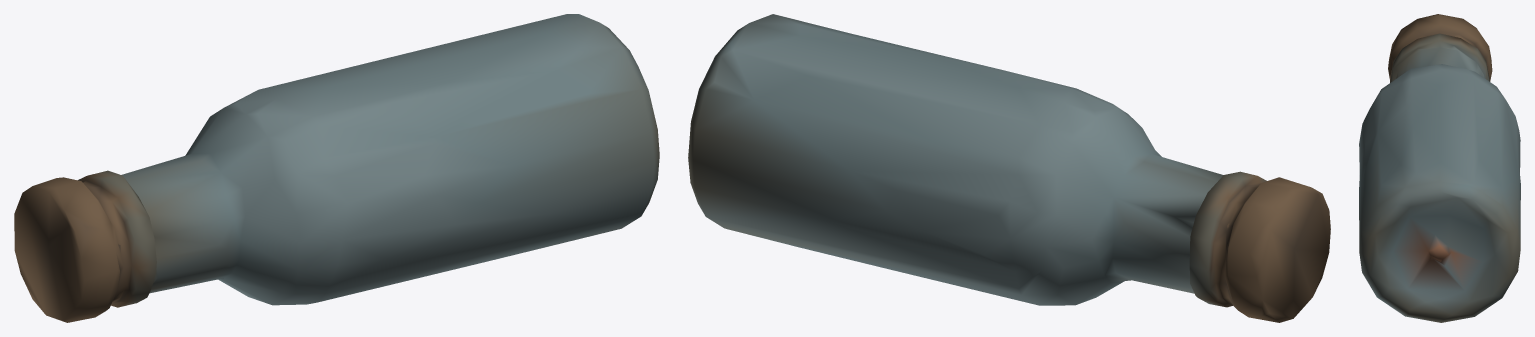
The model's file is gen3d-message-in-a-bottle-lod1.glb.
The picture shows the model from 3 angles, left to right: view 1: azimuth 30°, elevation 25°; view 2: azimuth 150°, elevation 25°; view 3: azimuth 270°, elevation 25°; orthographic projection. The views are drawn at different scales.
Visible parts, largest first — view 1: part_0; view 2: part_0; view 3: part_0.
Part boxes in pixels (box(x1,y1,x2,y2)): part_0: box(14, 14, 659, 322); part_0: box(688, 14, 1330, 322); part_0: box(1359, 14, 1520, 322).
Bounding box in the file's own units: 2.96 × 0.9975 × 1.03.
